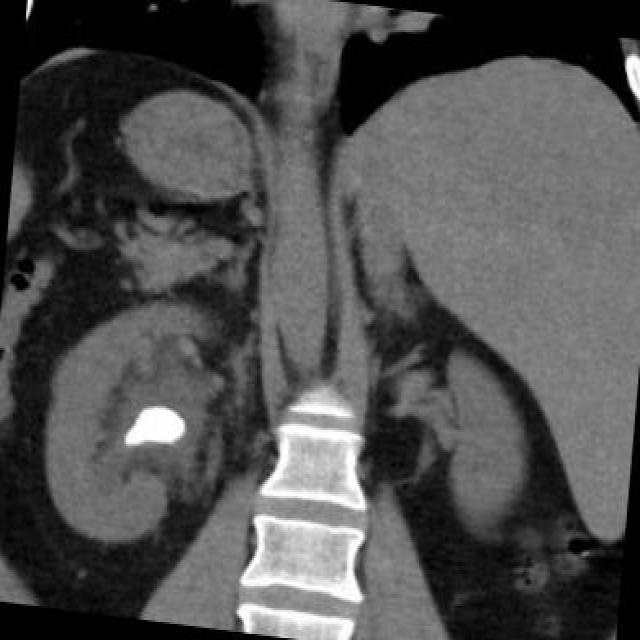Tas_Var: (107, 393, 194, 467)
